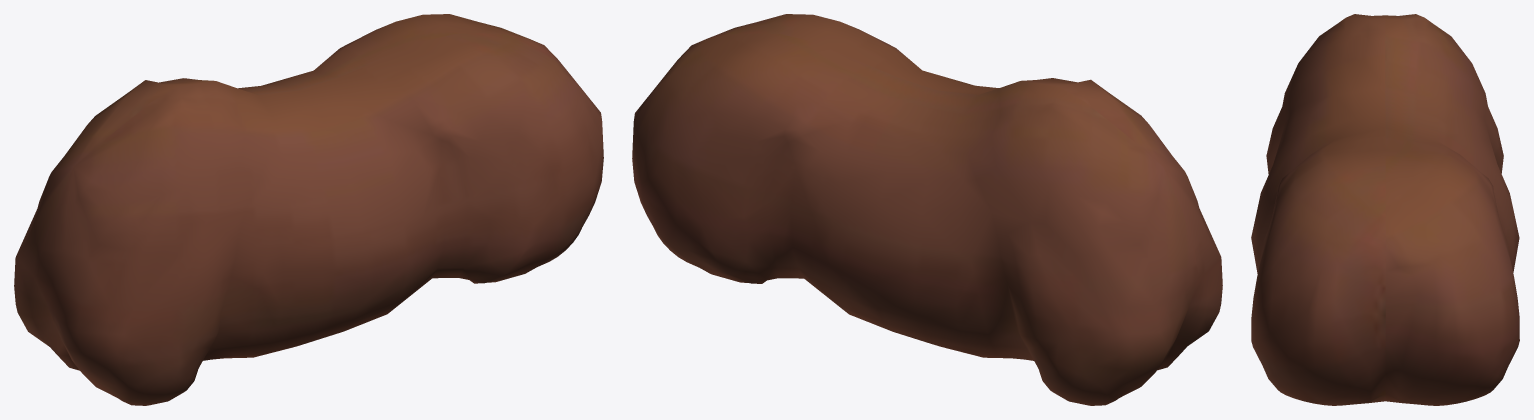
The model's file is Horse_Body_0.FBX.
3 views of the same model, side by side, from view 1: azimuth 30°, elevation 25°; view 2: azimuth 150°, elevation 25°; view 3: azimuth 270°, elevation 25° (orthographic).
Visible parts, largest first — view 1: Horse_Body_0; view 2: Horse_Body_0; view 3: Horse_Body_0.
Part boxes in pixels (x1,y1,x2,y2): Horse_Body_0: (14, 14, 603, 405); Horse_Body_0: (632, 14, 1222, 405); Horse_Body_0: (1251, 14, 1519, 405).
Bounding box in the file's own units: 3.73 × 1.92 × 1.63.
